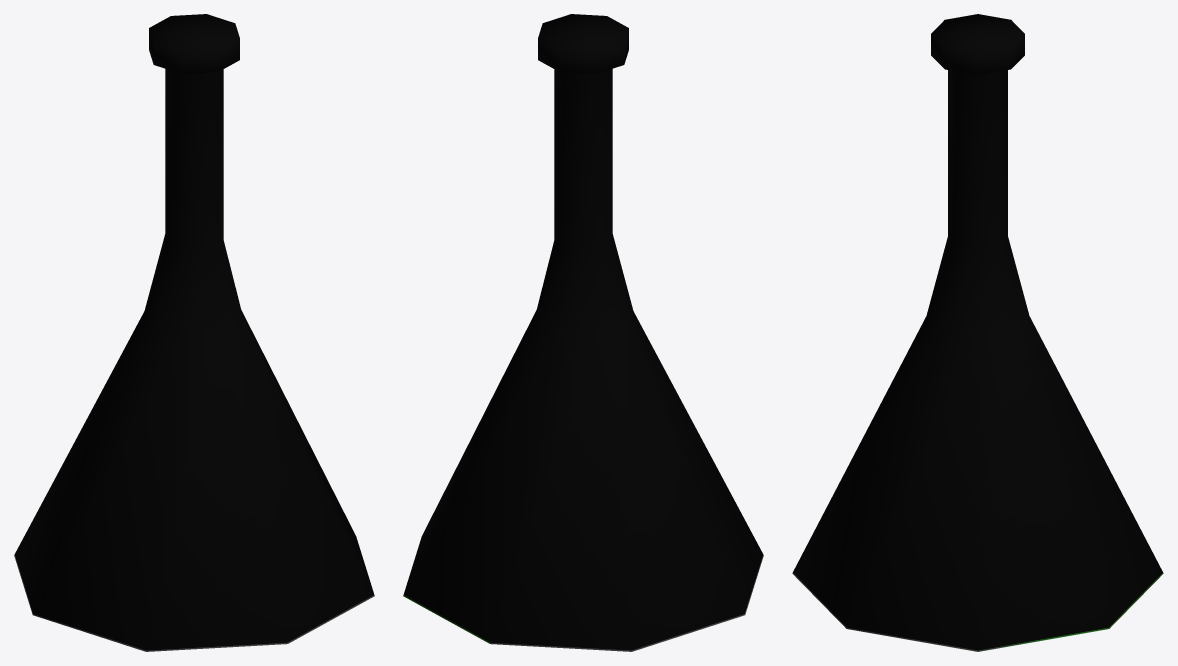
File: potion2_empty.fbx
3 renders of one model, left to right at view 1: azimuth 30°, elevation 25°; view 2: azimuth 150°, elevation 25°; view 3: azimuth 270°, elevation 25°, orthographic.
Visible parts, largest first — view 1: pCone2; view 2: pCone2; view 3: pCone2.
Boxes of the visible parts, <box> form: pCone2: <box>14,14,374,651</box>; pCone2: <box>403,14,763,651</box>; pCone2: <box>792,14,1163,651</box>.
Size of the model in its own units: 2 by 3.21 by 2.
